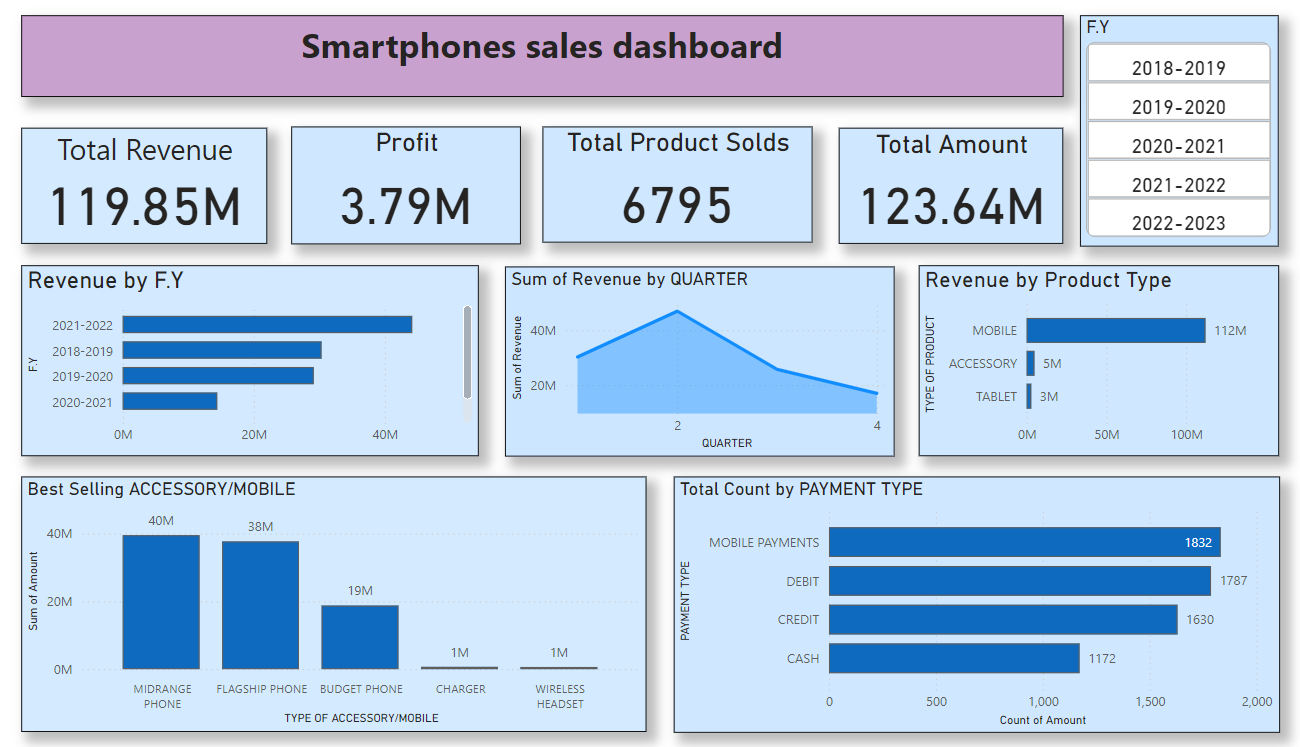

The dashboard page shown, as its layout file describes it:
{"tool":"powerbi","page":{"name":"Page 1","canvas":[1280,720],"ordinal":0},"visuals":[{"type":"barChart","title":"Total Count by PAYMENT TYPE","fields":{"Category":["SMARTPHONE RETAIL OUTLET SALE DATA.PAYMENT TYPE"],"Y":["CountNonNull(SMARTPHONE RETAIL OUTLET SALE DATA.Amount)"]},"box":[644.9,467.9,564,238.8],"z":0},{"type":"barChart","title":" Revenue by Product Type","fields":{"Category":["SMARTPHONE RETAIL OUTLET SALE DATA.TYPE OF PRODUCT"],"Y":["Sum(SMARTPHONE RETAIL OUTLET SALE DATA.Revenue)"]},"box":[873.1,271.5,335.1,177.3],"z":1000},{"type":"columnChart","title":"Best Selling ACCESSORY/MOBILE","fields":{"Y":["Sum(SMARTPHONE RETAIL OUTLET SALE DATA.Amount)"],"Category":["SMARTPHONE RETAIL OUTLET SALE DATA.TYPE OF ACCESSORY/MOBILE"]},"box":[38.4,467.9,581.8,237.4],"z":2000},{"type":"textbox","box":[37.9,37.9,969.7,75.8],"z":3000},{"type":"card","title":"Total Revenue","fields":{"Values":["Sum(SMARTPHONE RETAIL OUTLET SALE DATA.Revenue)"]},"box":[37.9,143.1,228.7,107.6],"z":4000},{"type":"card","title":"Total Amount","fields":{"Values":["Sum(SMARTPHONE RETAIL OUTLET SALE DATA.Amount)"]},"box":[798.5,143.1,209.1,107.6],"z":5000},{"type":"card","title":"Profit / loss","fields":{"Values":["Sum(SMARTPHONE RETAIL OUTLET SALE DATA.Profit)"]},"box":[286.1,143.1,220.1,110.1],"z":6000},{"type":"barChart","title":"     Revenue by F.Y","fields":{"Category":["SMARTPHONE RETAIL OUTLET SALE DATA.F.Y"],"Y":["Sum(SMARTPHONE RETAIL OUTLET SALE DATA.Revenue)"]},"box":[37.9,271.5,425.5,177.3],"z":7000},{"type":"card","title":"Total Product Solds","fields":{"Values":["Sum(SMARTPHONE RETAIL OUTLET SALE DATA.Quantity)"]},"box":[523.4,143.1,250.7,107.6],"z":8000},{"type":"lineChart","fields":{"Category":["SMARTPHONE RETAIL OUTLET SALE DATA.QUARTER"],"Y":["Sum(SMARTPHONE RETAIL OUTLET SALE DATA.Revenue)"]},"box":[488.5,271.7,362.3,177],"z":9000},{"type":"advancedSlicerVisual","fields":{"Values":["SMARTPHONE RETAIL OUTLET SALE DATA.F.Y"]},"box":[1023.5,37.9,184.6,215.2],"z":9002}]}

Visuals, with their boxes in screenshot pixels (x1, y1, x2, y2), scaled from the page's 1280x720 canvas onto the 1300x747 screenshot:
"Total Count by PAYMENT TYPE" barChart: select_region(655, 485, 1228, 733)
" Revenue by Product Type" barChart: select_region(887, 282, 1227, 466)
"Best Selling ACCESSORY/MOBILE" columnChart: select_region(39, 485, 630, 732)
textbox: select_region(38, 39, 1023, 118)
"Total Revenue" card: select_region(38, 148, 271, 260)
"Total Amount" card: select_region(811, 148, 1023, 260)
"Profit / loss" card: select_region(291, 148, 514, 263)
"     Revenue by F.Y" barChart: select_region(38, 282, 471, 466)
"Total Product Solds" card: select_region(532, 148, 786, 260)
lineChart - SMARTPHONE RETAIL OUTLET SALE DATA.QUARTER x Sum(SMARTPHONE RETAIL OUTLET SALE DATA.Revenue): select_region(496, 282, 864, 466)
advancedSlicerVisual - SMARTPHONE RETAIL OUTLET SALE DATA.F.Y: select_region(1039, 39, 1227, 263)
